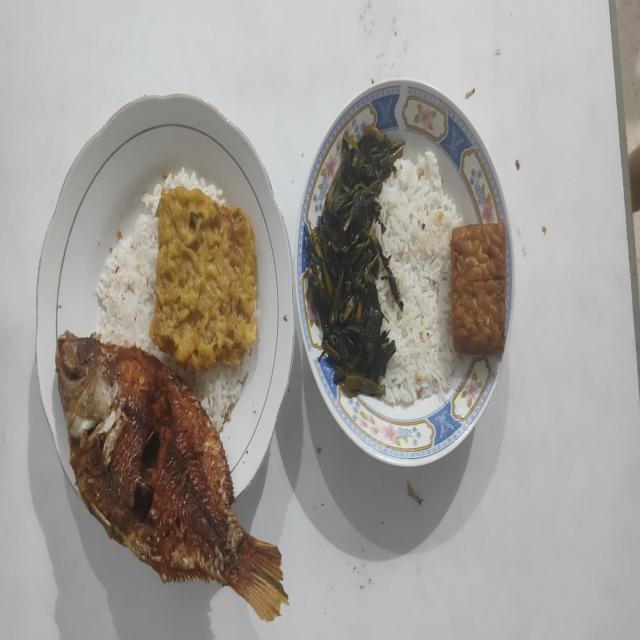ikan_mujair: (56, 331, 287, 620)
nasi_putih: (94, 168, 224, 364), (378, 152, 461, 406), (194, 350, 253, 430)
tempe_goreng: (450, 222, 506, 355)
tumis_kangkung: (303, 125, 404, 397)
